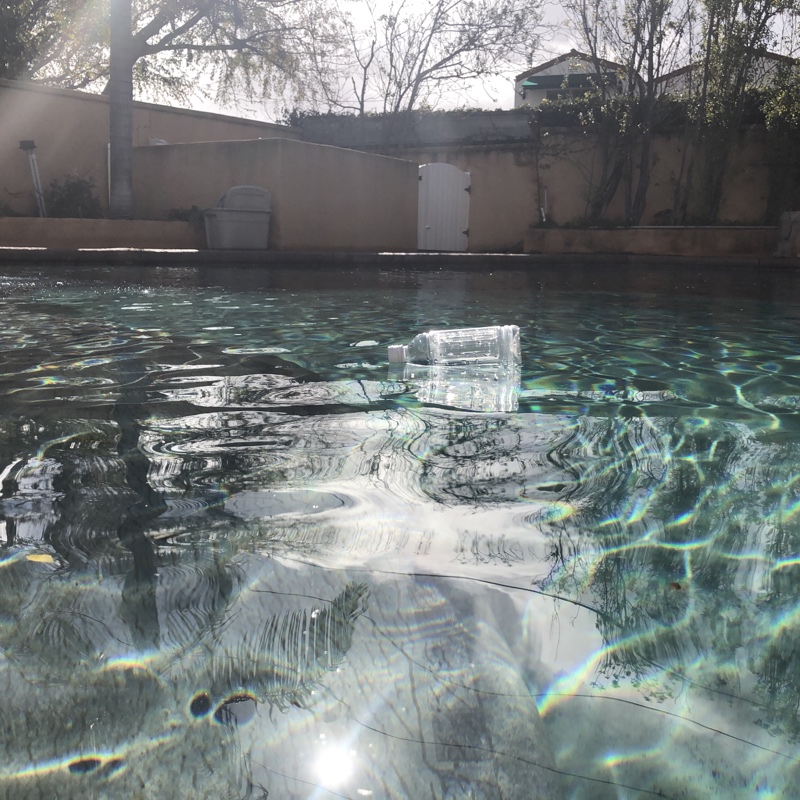Plastic Bottle: (381, 324, 528, 374)
